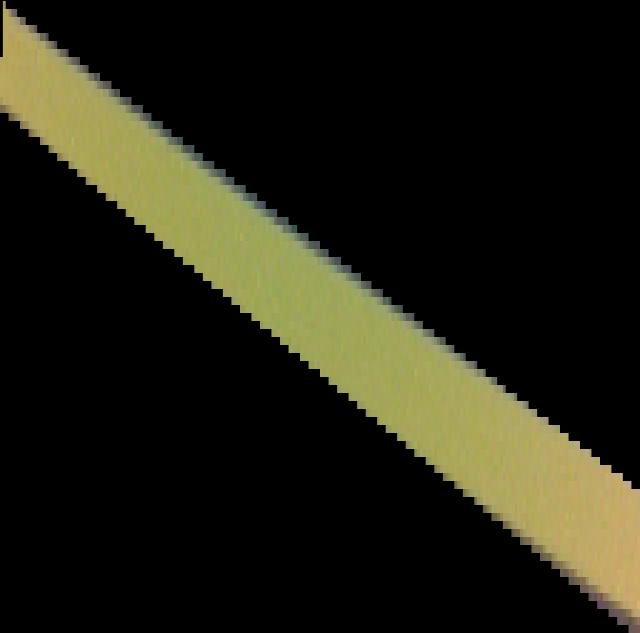curve: (0, 0, 640, 633)
